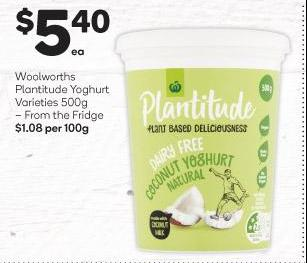description_block: (7, 69, 109, 123)
price_main: (8, 3, 115, 64)
product_image_block: (112, 24, 292, 256)
unit_price_block: (11, 121, 97, 138)
